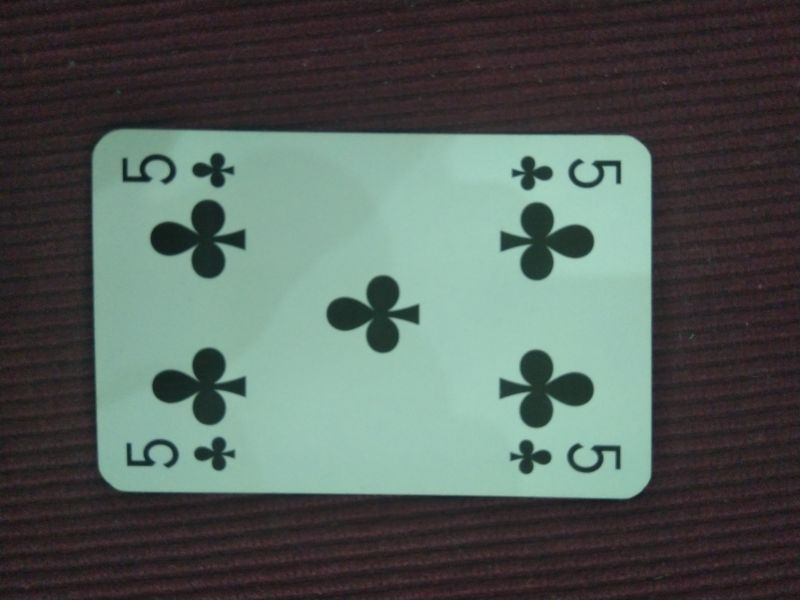5c: (117, 427, 250, 473), (505, 148, 627, 196), (115, 147, 245, 192), (502, 434, 626, 478)
